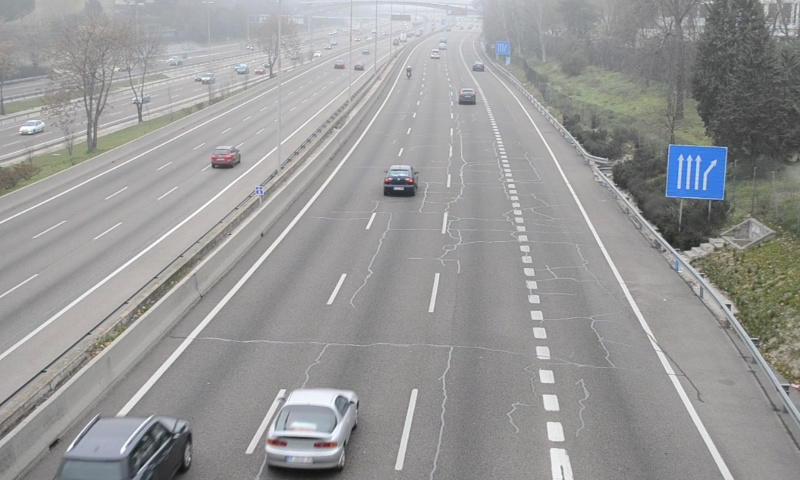car: (56, 415, 191, 480), (262, 390, 360, 470), (383, 166, 418, 198), (459, 87, 476, 105)
motorcycle: (406, 65, 412, 80)
